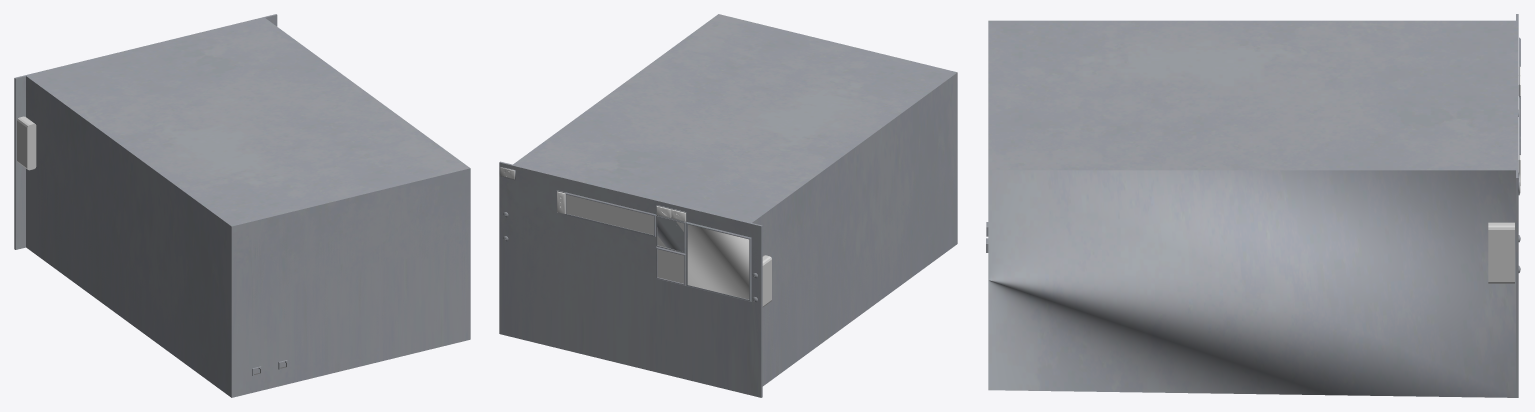
The model's file is Server.Mainframe.7u.glb.
3 views of the same model, side by side, from view 1: azimuth 30°, elevation 25°; view 2: azimuth 150°, elevation 25°; view 3: azimuth 270°, elevation 25° (orthographic). The views are drawn at different scales.
Visible parts, largest first — view 1: Server.Purple2; view 2: Server.Purple2; view 3: Server.Purple2.
Boxes of the visible parts, left/top/right/bottom form: Server.Purple2: left=14, top=14, right=470, bottom=397; Server.Purple2: left=499, top=14, right=957, bottom=397; Server.Purple2: left=988, top=14, right=1520, bottom=397.
Size of what is drawn, in the model's own units: 0.4974 by 0.3111 by 0.6857.
Materials: 6 (3 with a texture image).
